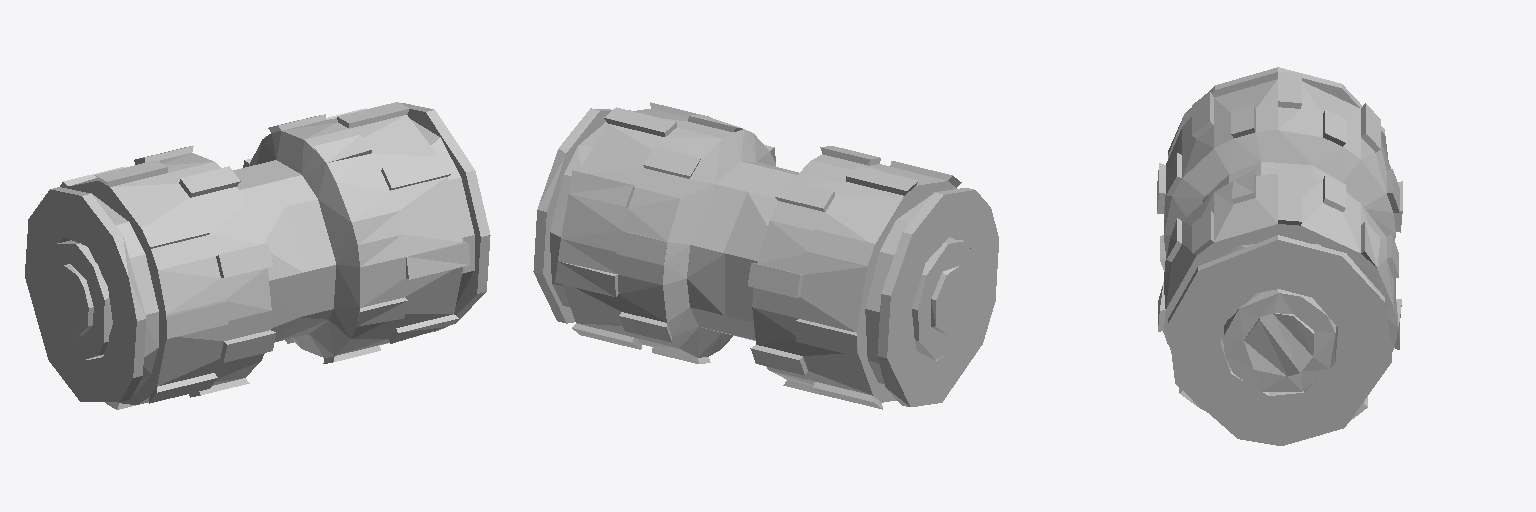
The model's file is Kola_000017.obj.
3 views of the same model, side by side, from view 1: azimuth 30°, elevation 25°; view 2: azimuth 150°, elevation 25°; view 3: azimuth 270°, elevation 25° (orthographic).
Visible parts, largest first — view 1: Cylinder.004; view 2: Cylinder.004; view 3: Cylinder.004.
Boxes of the visible parts, <box> form: Cylinder.004: <box>25,102,490,409</box>; Cylinder.004: <box>533,102,998,409</box>; Cylinder.004: <box>1157,67,1402,445</box>.
Bounding box in the file's own units: 2.17 × 1.25 × 1.25.